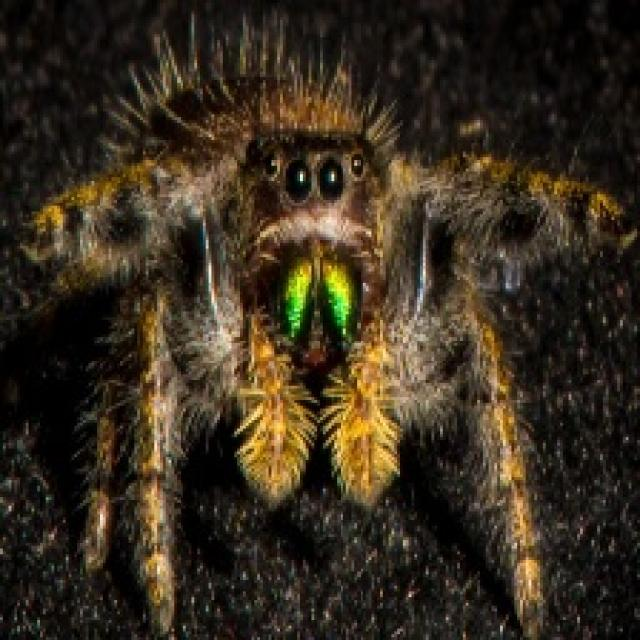Non venomous spider: (45, 39, 610, 586)
